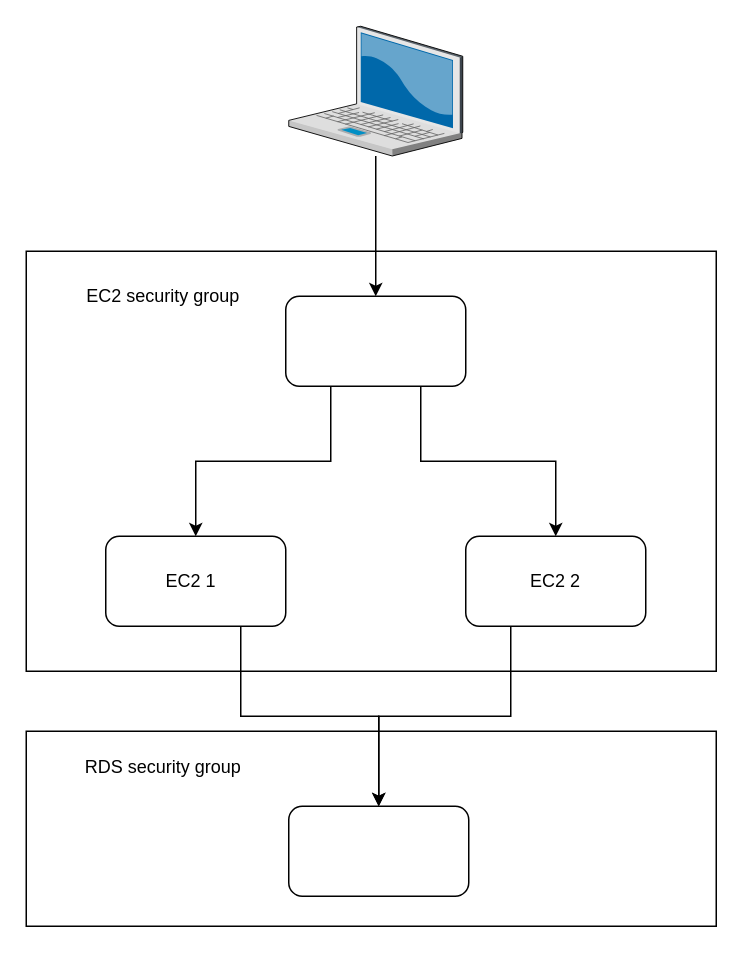
Some shapes in this 743 by 953 pixel diagram are drawn without their labels. The shapes that lost their labels are listed below. From the top down, each one's centre as x and y in pixels, then its label:
the point at 375,340: Load Balancer
the point at 378,850: RDS
